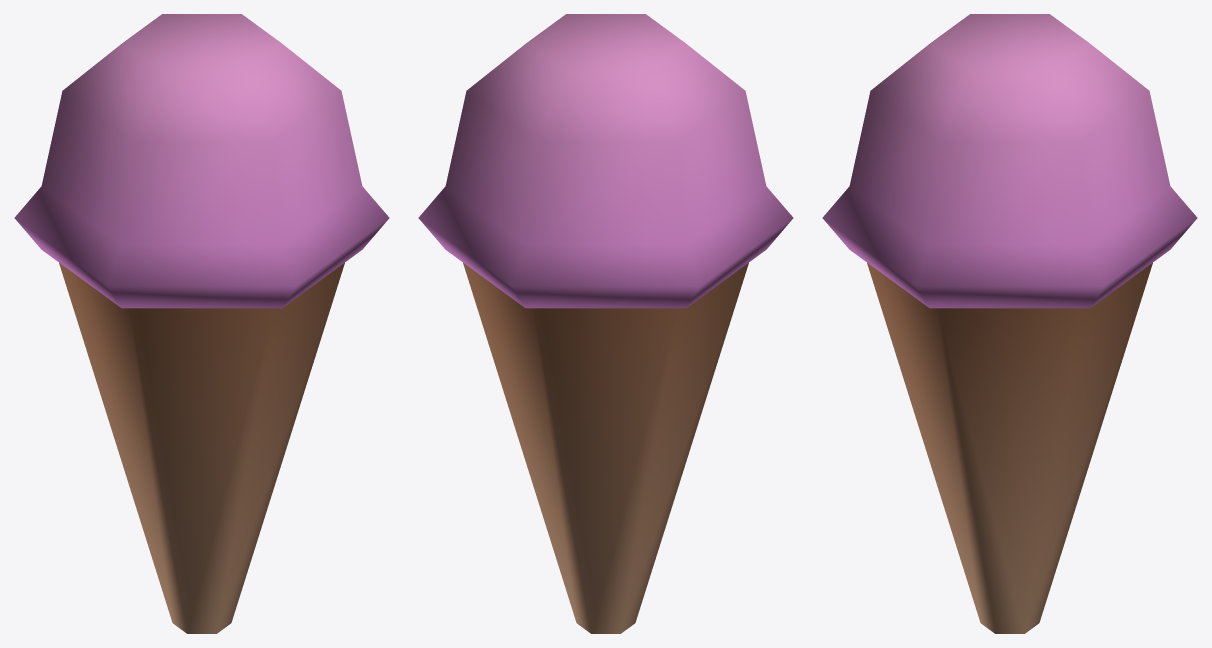
Rendered from ice-cream.glb.
3 renders of one model, left to right at view 1: azimuth 30°, elevation 25°; view 2: azimuth 150°, elevation 25°; view 3: azimuth 270°, elevation 25°, orthographic.
Visible parts, largest first — view 1: Group, ice-cream; view 2: Group, ice-cream; view 3: Group, ice-cream.
Boxes of the visible parts, x1,y1,x2,y2 form: Group: (14, 14, 389, 308); ice-cream: (59, 263, 344, 633); Group: (418, 14, 793, 308); ice-cream: (463, 263, 748, 633); Group: (822, 14, 1197, 308); ice-cream: (867, 263, 1152, 633).
Size of the model in its own units: 0.2352 by 0.4632 by 0.2716.
